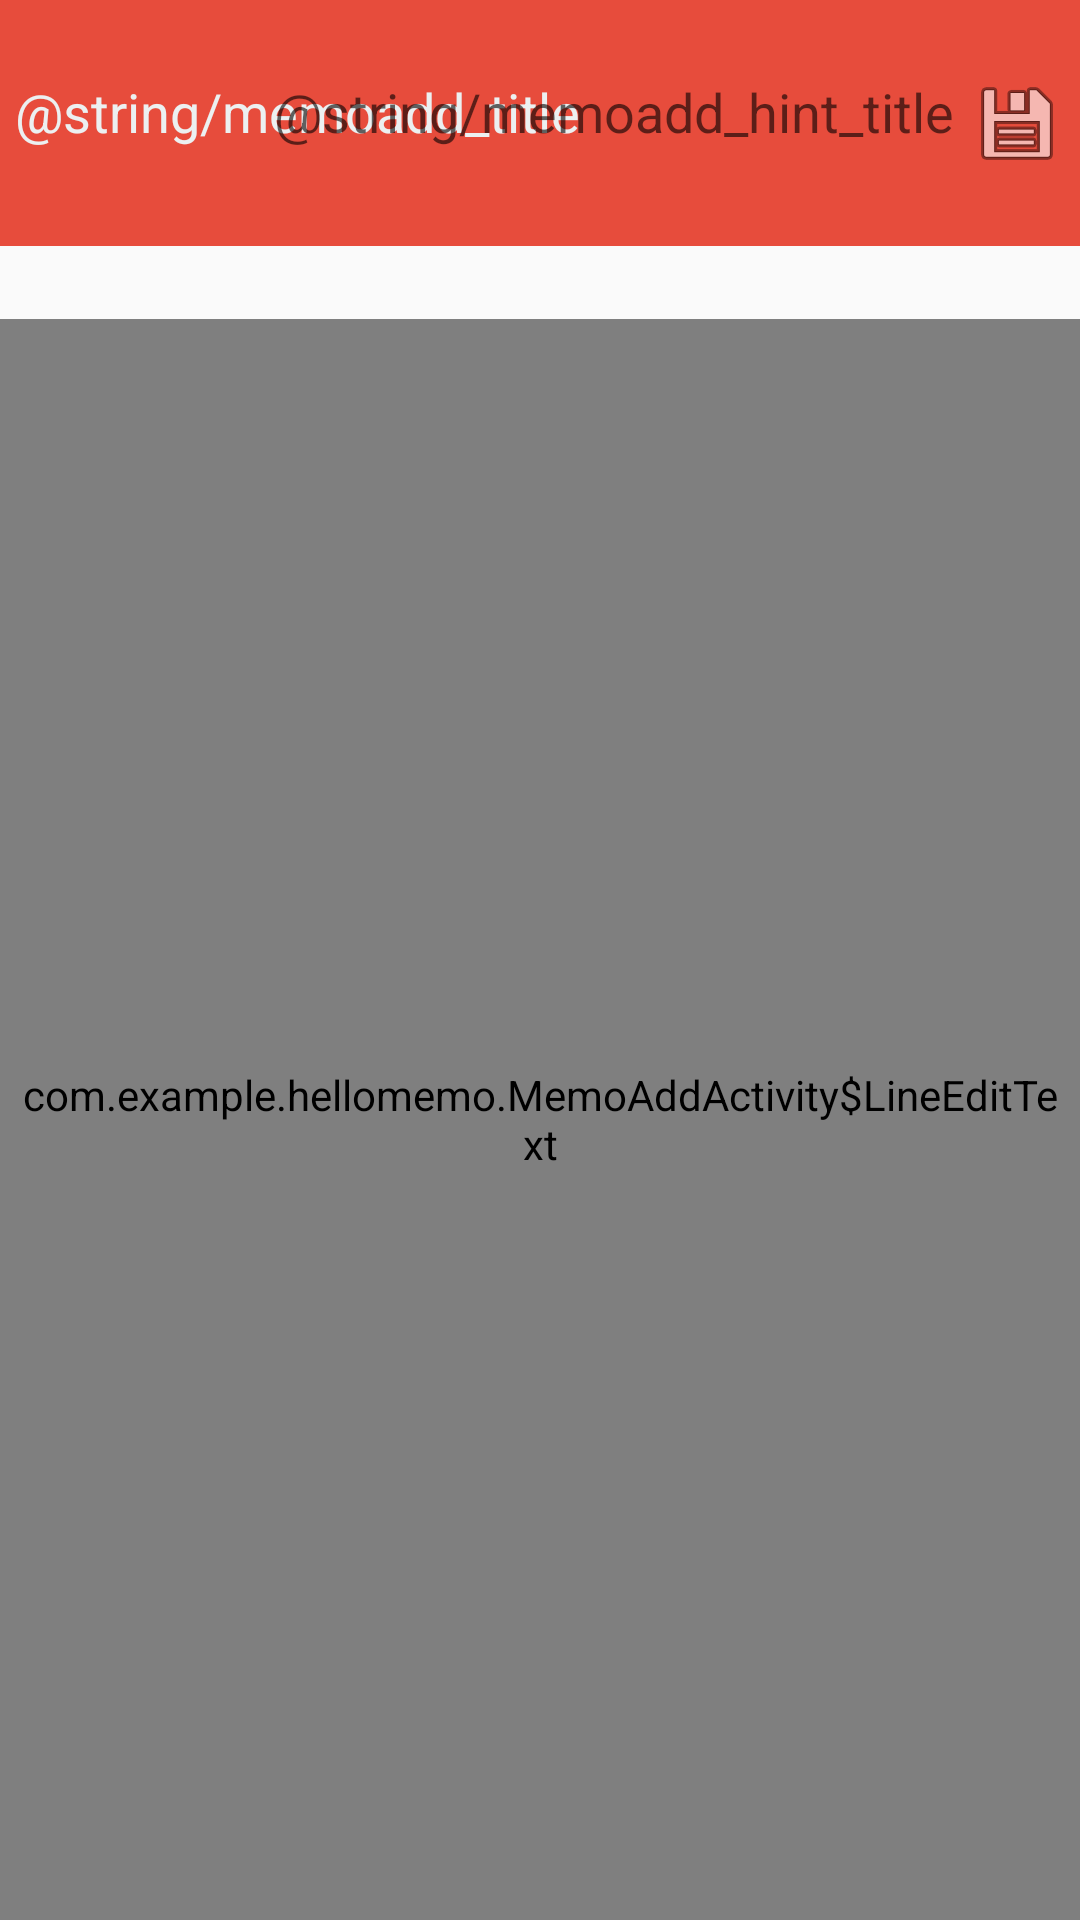

Icons on this 1080px x 1920px Android screen, each with its box as box=[x1, y1, x2, y2]:
save: box=[981, 87, 1053, 160]
